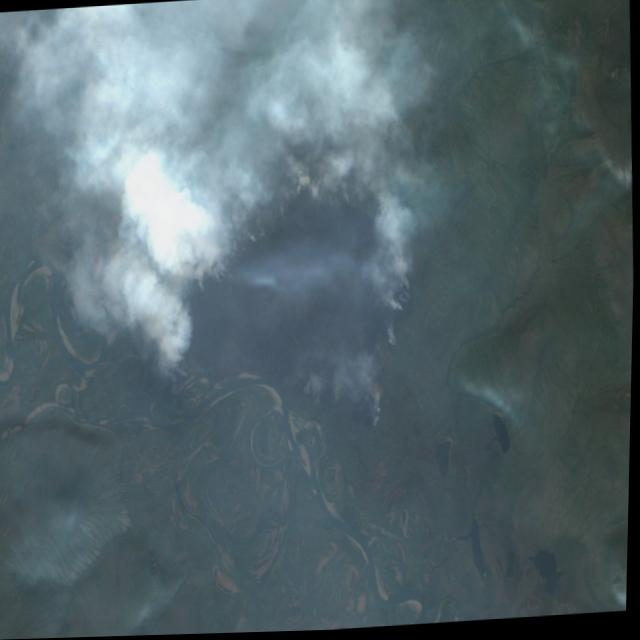fire: (149, 162, 425, 455)
